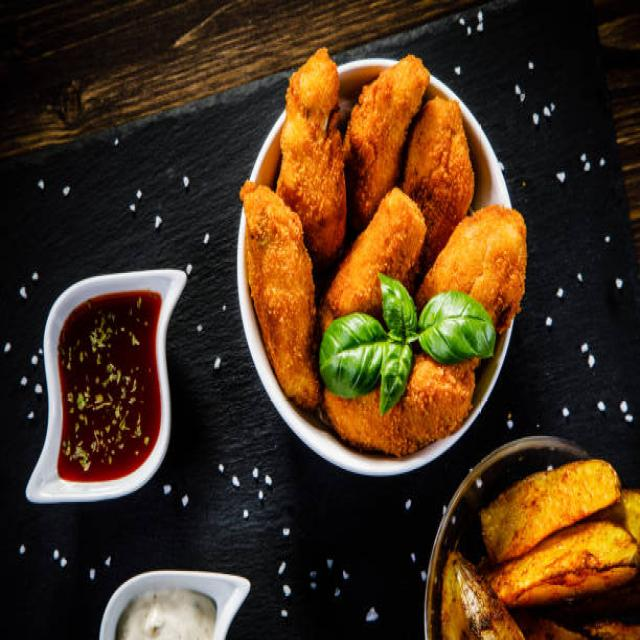Frango: (241, 47, 527, 457), (440, 445, 640, 640)
